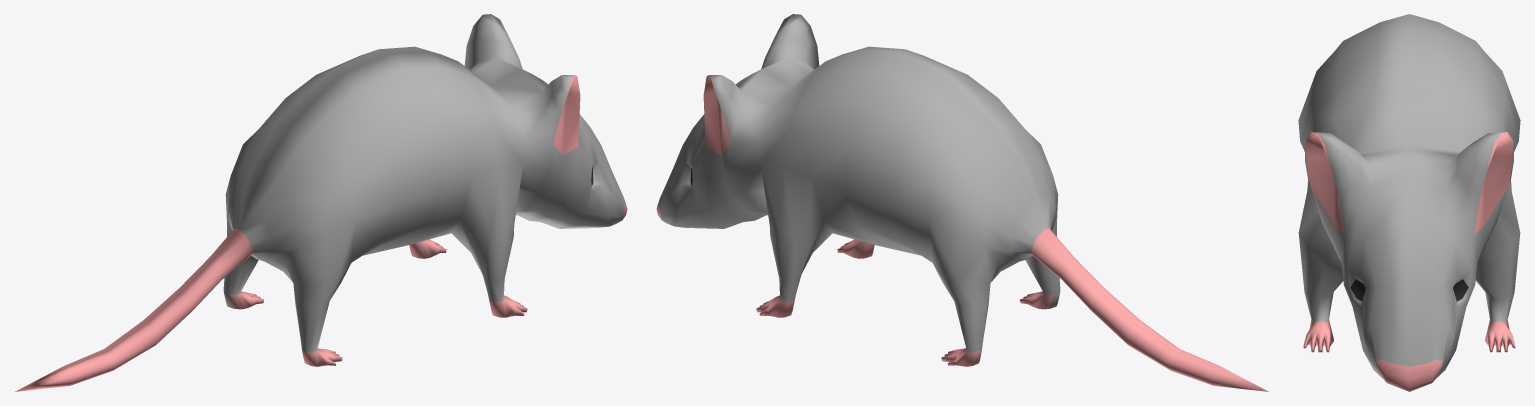
The model's file is krysa_kreslena_1.glb.
The picture shows the model from 3 angles, left to right: view 1: azimuth 30°, elevation 25°; view 2: azimuth 150°, elevation 25°; view 3: azimuth 270°, elevation 25°; orthographic projection. The views are drawn at different scales.
Parts seen in each view (by area): view 1: Rat1_LPollyPallete_0; view 2: Rat1_LPollyPallete_0; view 3: Rat1_LPollyPallete_0.
Part boxes in pixels (x1,y1,x2,y2): Rat1_LPollyPallete_0: (15, 14, 627, 391); Rat1_LPollyPallete_0: (656, 14, 1268, 391); Rat1_LPollyPallete_0: (1298, 14, 1520, 391).
Bounding box in the file's own units: 1.2 × 0.4806 × 0.3465.
Materials: 1 (1 with a texture image).
